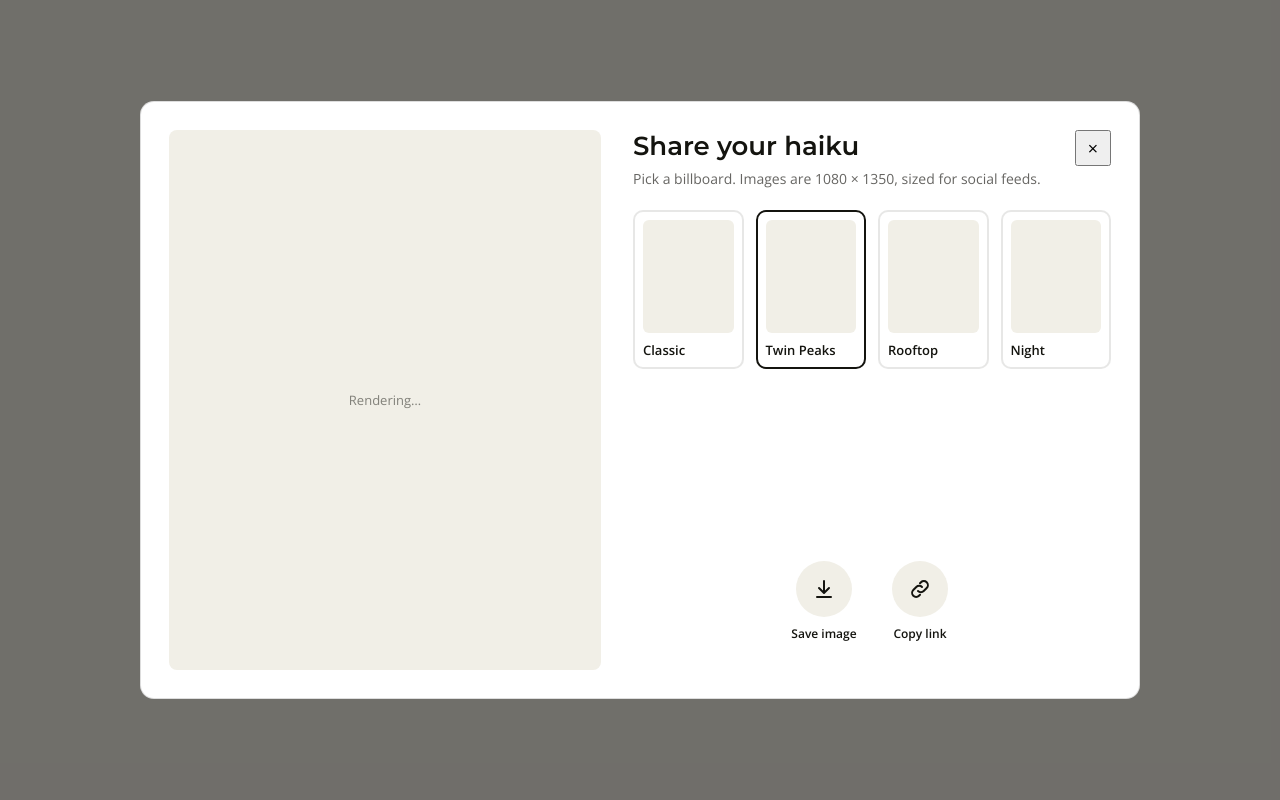
Scenario: ShareDialog › says still rendering before anything is ready
This screenshot has width=1280, height=800.
Click the button "Save image" at (824, 602), box x1=788 y1=561 x2=860 y2=642
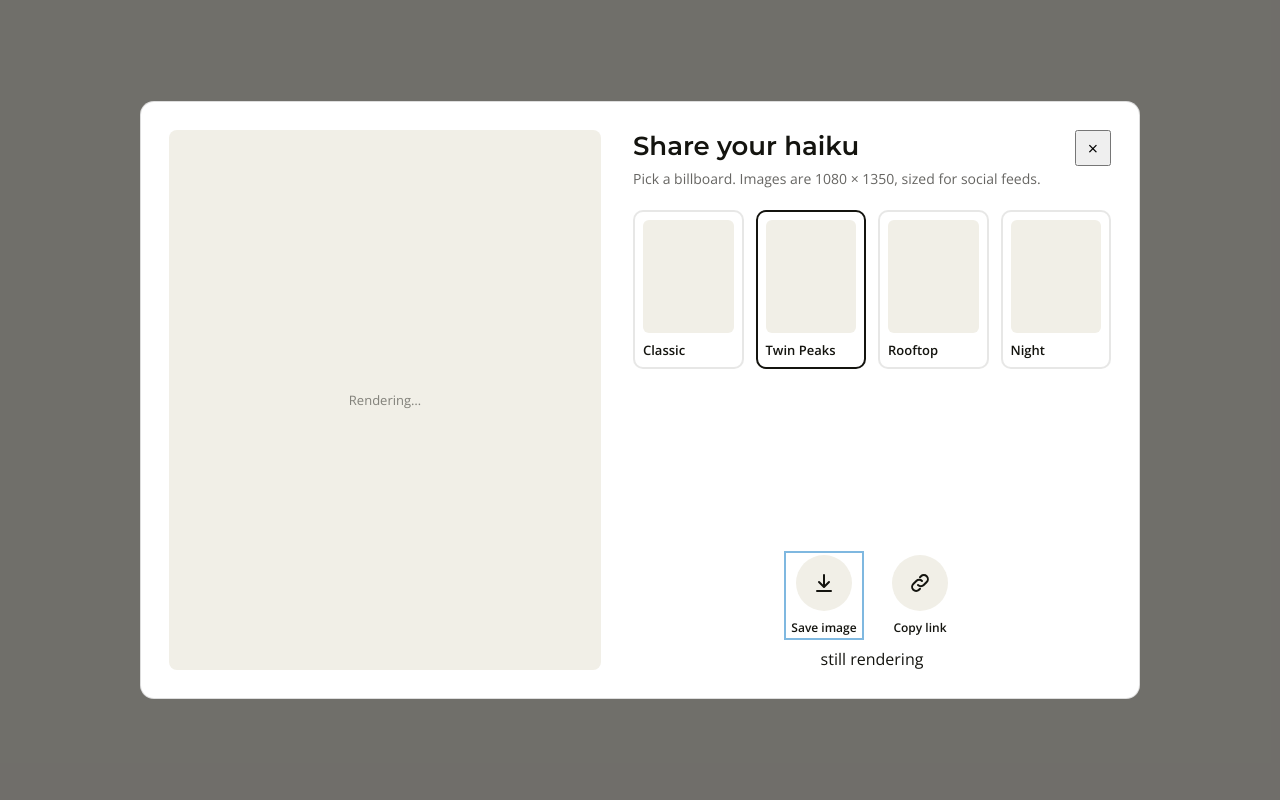
Expected: the message reads "still rendering", x1=821 y1=648 x2=923 y2=670
